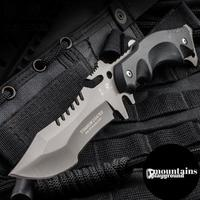knife: (6, 25, 194, 184)
